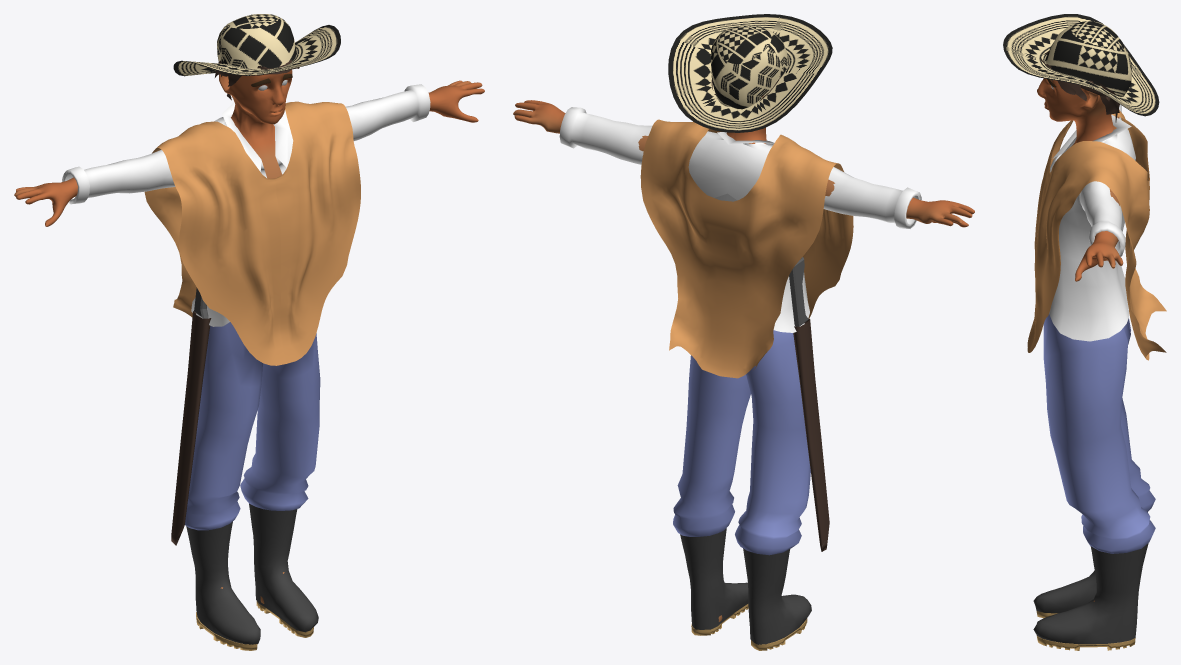
The model's file is campesino_hombre.fbx.
3 views of the same model, side by side, from view 1: azimuth 30°, elevation 25°; view 2: azimuth 150°, elevation 25°; view 3: azimuth 270°, elevation 25° (orthographic).
Visible parts, largest first — view 1: PM3D_Plane3D2_3, anciano7, botas4, prensa_personaje_director11, prensa_personaje_director6, pCylinder3, pPlane3; view 2: PM3D_Plane3D2_3, anciano7, pCylinder3, prensa_personaje_director11, botas4, pPlane3, prensa_personaje_director6, pPlane2; view 3: anciano7, PM3D_Plane3D2_3, prensa_personaje_director11, pCylinder3, botas4, prensa_personaje_director6, pPlane10.
Part boxes in pixels (x1,y1,x2,y2): PM3D_Plane3D2_3: (144,101,360,365); anciano7: (185,322,320,530); botas4: (186,503,318,650); prensa_personaje_director11: (62,84,430,326); prensa_personaje_director6: (14,70,484,603); pCylinder3: (173,14,340,76); pPlane3: (171,311,211,545); PM3D_Plane3D2_3: (640,119,853,378); anciano7: (673,330,810,555); pCylinder3: (668,14,832,132); prensa_personaje_director11: (559,107,921,332); botas4: (680,528,811,650); pPlane3: (793,318,829,551); prensa_personaje_director6: (513,95,974,621); pPlane2: (789,257,823,546); anciano7: (1043,314,1155,553); PM3D_Plane3D2_3: (1027,109,1166,360); prensa_personaje_director11: (1049,104,1135,341); pCylinder3: (1003,14,1159,116); botas4: (1033,511,1148,650); prensa_personaje_director6: (1037,78,1123,601); pPlane10: (1096,81,1119,114).
Size of the model in its own units: 11.98 by 14.92 by 3.69.
